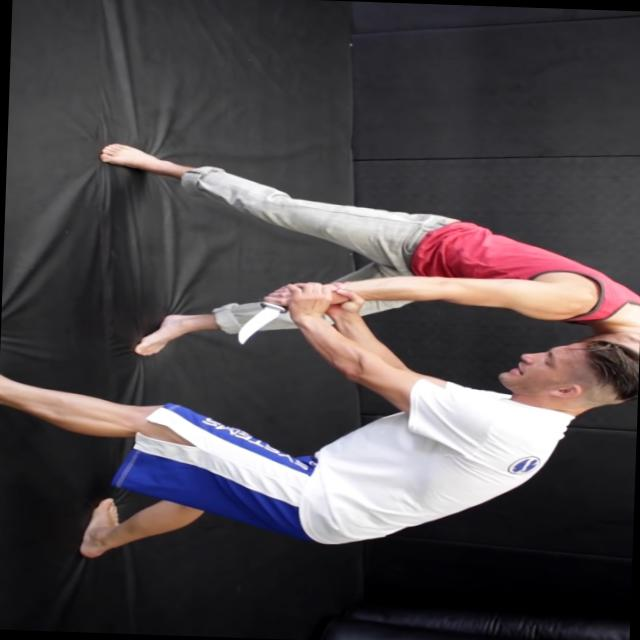knife: (229, 280, 291, 349)
